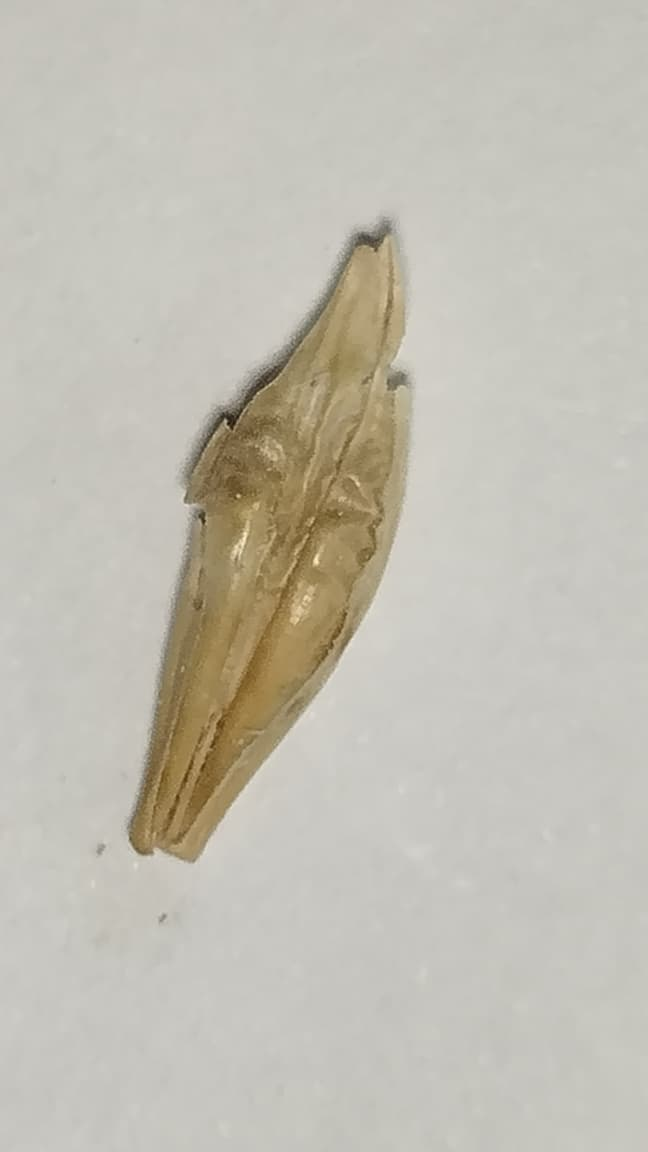healthy-70-60: (130, 236, 409, 860)
shriveledseed: (209, 375, 390, 617)
